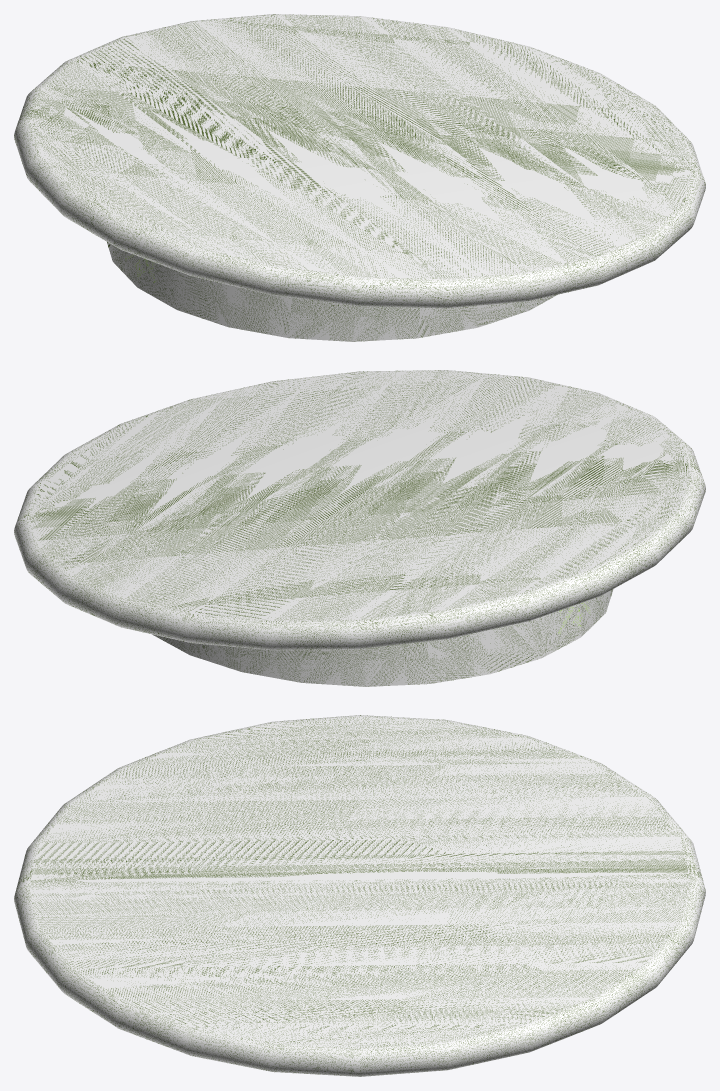
The picture shows the model from 3 angles, top to bottom: view 1: azimuth 30°, elevation 25°; view 2: azimuth 150°, elevation 25°; view 3: azimuth 270°, elevation 25°; orthographic projection.
Parts seen in each view (by area): view 1: SketchUp (×2); view 2: SketchUp (×2); view 3: SketchUp.
Part boxes in pixels (bbox=[...]): SketchUp (×2): bbox=[14, 14, 705, 341]; SketchUp (×2): bbox=[14, 370, 705, 686]; SketchUp: bbox=[14, 715, 705, 1076].
Bounding box in the file's own units: 274 × 275 × 50.3.
